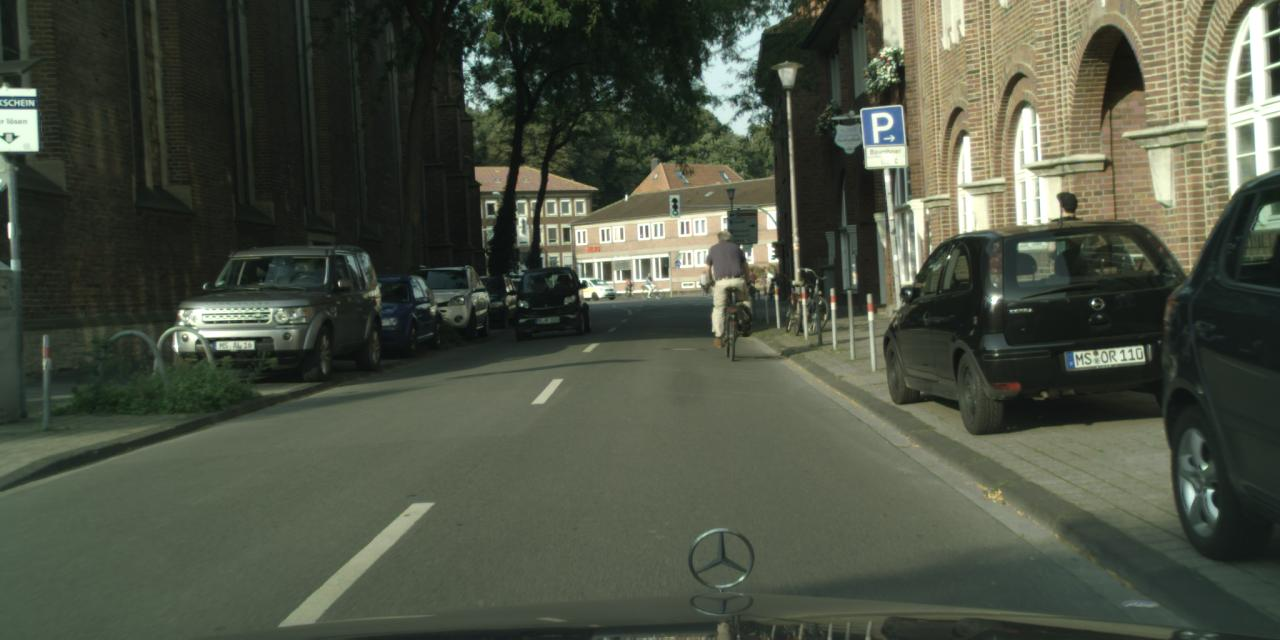ped: (1040, 191, 1102, 345), (706, 230, 750, 338), (761, 267, 771, 292), (644, 272, 654, 296), (698, 270, 708, 292), (746, 269, 754, 292), (623, 278, 630, 294)
